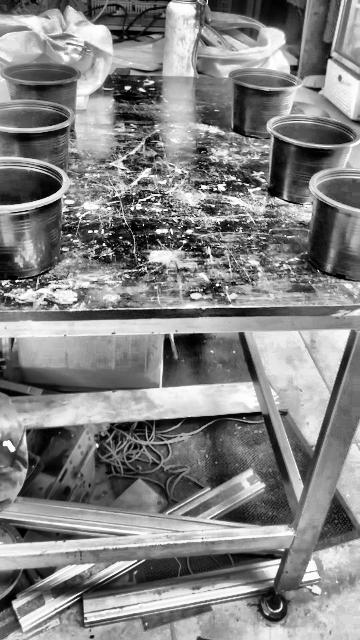pot: (0, 158, 67, 281), (269, 116, 360, 203), (308, 168, 359, 281), (0, 99, 74, 173), (229, 68, 301, 137), (1, 63, 81, 111), (104, 470, 137, 499)
